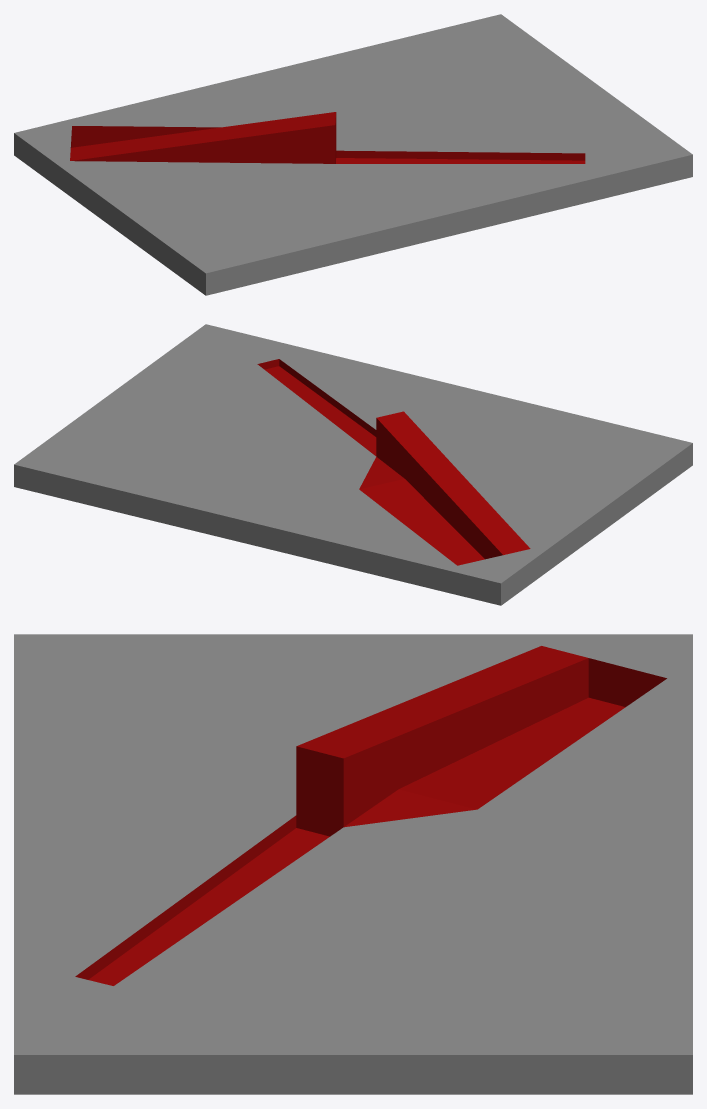
Rendered from lif_real.obj.
3 views of the same model, one above another, from view 1: azimuth 30°, elevation 25°; view 2: azimuth 150°, elevation 25°; view 3: azimuth 270°, elevation 25° (orthographic). The views are drawn at different scales.
Bounding box in the file's own units: 0.2822 × 0.0339 × 0.1926.
